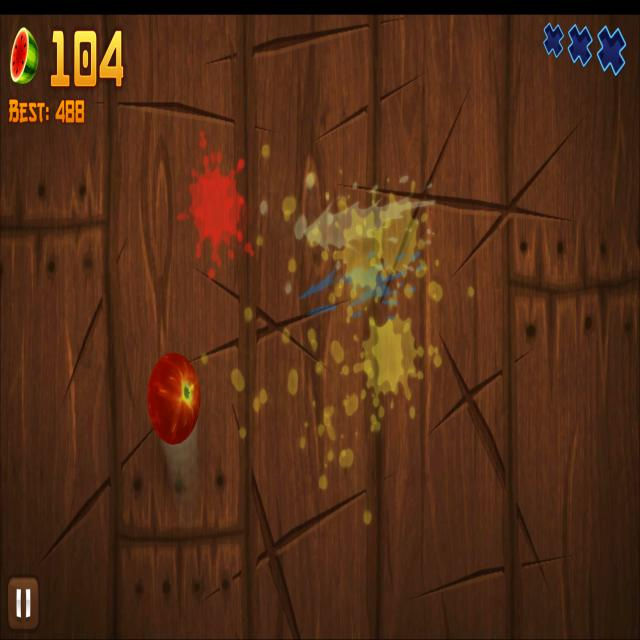fruit: (147, 354, 201, 444)
